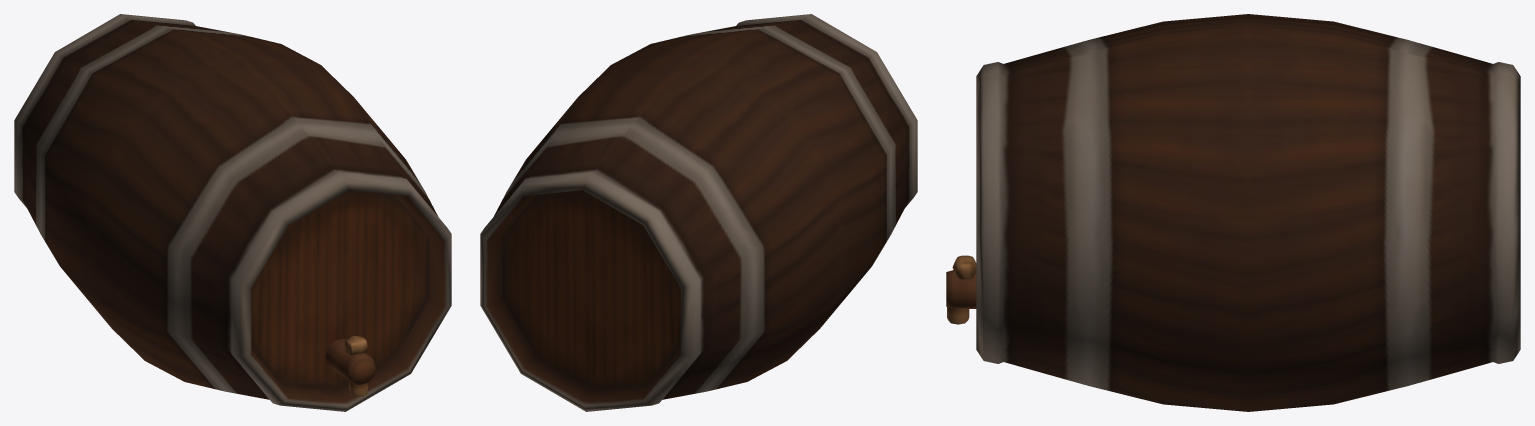
Rendered from BarrelKegv2.fbx.
The picture shows the model from 3 angles, left to right: view 1: azimuth 30°, elevation 25°; view 2: azimuth 150°, elevation 25°; view 3: azimuth 270°, elevation 25°; orthographic projection. The views are drawn at different scales.
Visible parts, largest first — view 1: DinnerScene:Barrel, DinnerScene:Tap; view 2: DinnerScene:Barrel; view 3: DinnerScene:Barrel, DinnerScene:Tap.
Boxes of the visible parts, x1,y1,x2,y2 form: DinnerScene:Barrel: (14, 14, 451, 411); DinnerScene:Tap: (325, 338, 375, 384); DinnerScene:Barrel: (480, 14, 917, 411); DinnerScene:Barrel: (976, 14, 1520, 411); DinnerScene:Tap: (946, 270, 976, 308).
Size of the model in its own units: 8.52 by 8.96 by 12.69.
